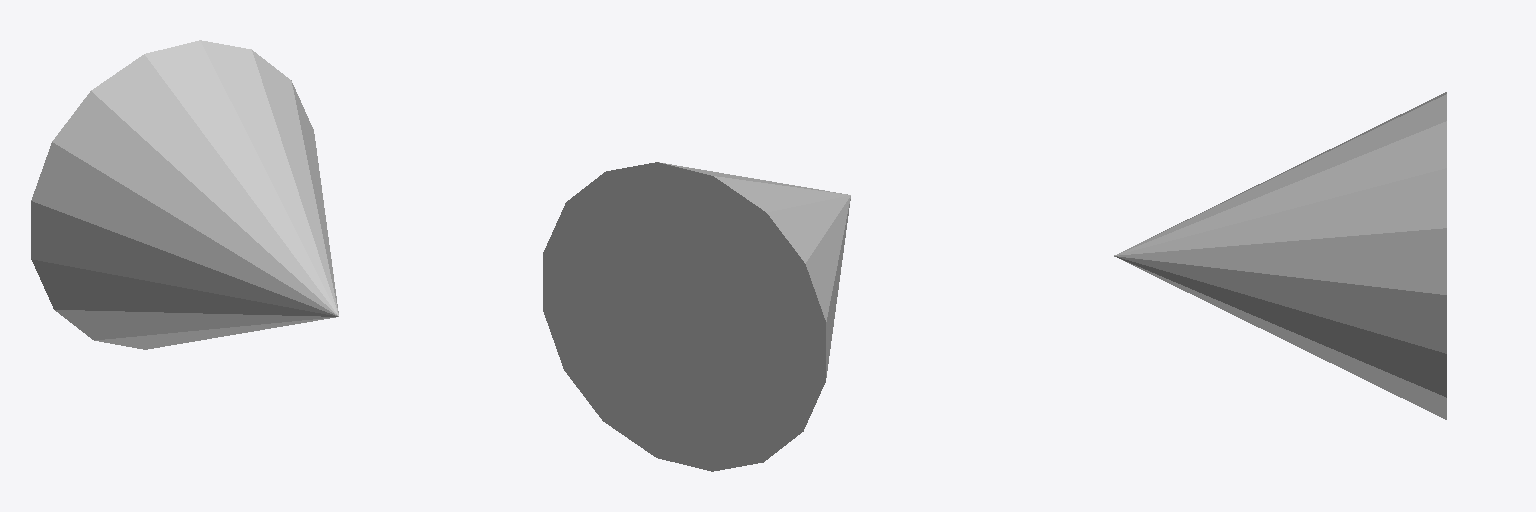
Rendered from cune_1.obj.
3 views of the same model, side by side, from view 1: azimuth 30°, elevation 25°; view 2: azimuth 150°, elevation 25°; view 3: azimuth 270°, elevation 25° (orthographic).
Size of the model in its own units: 0.9817 by 0.9817 by 1.